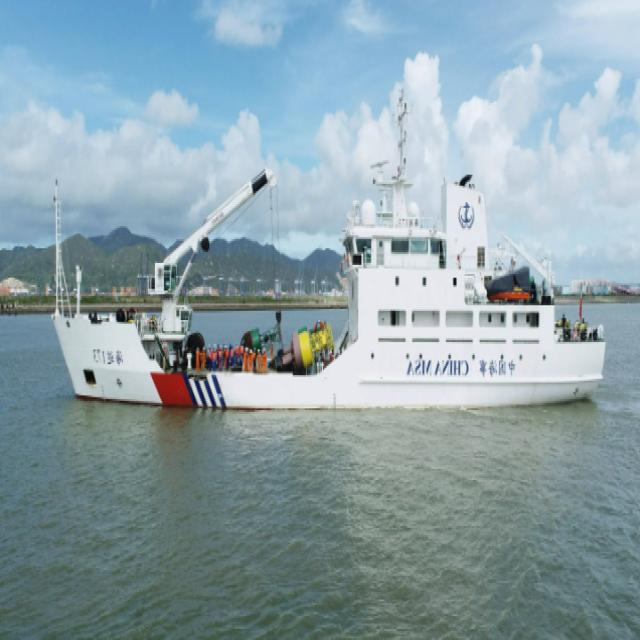houseboat: (51, 133, 614, 422)
